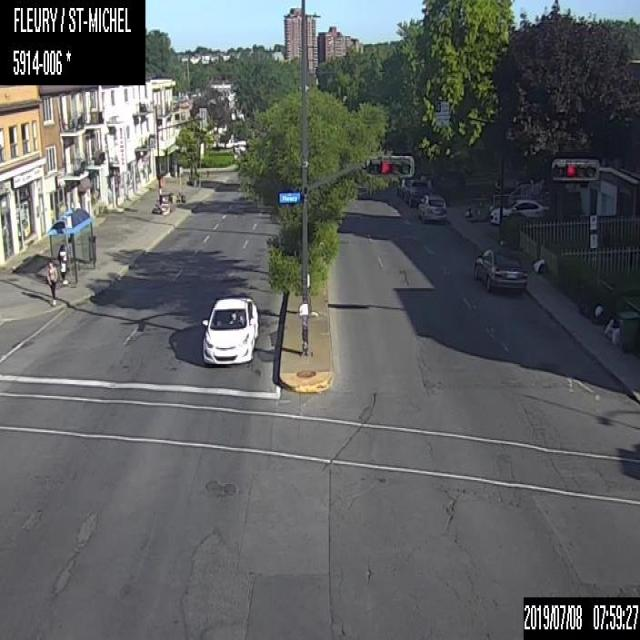pedestrian: (44, 260, 58, 306), (55, 241, 69, 287)
vehicle: (200, 293, 258, 364), (473, 246, 528, 290), (492, 195, 548, 224), (417, 194, 450, 222), (402, 176, 428, 207)
